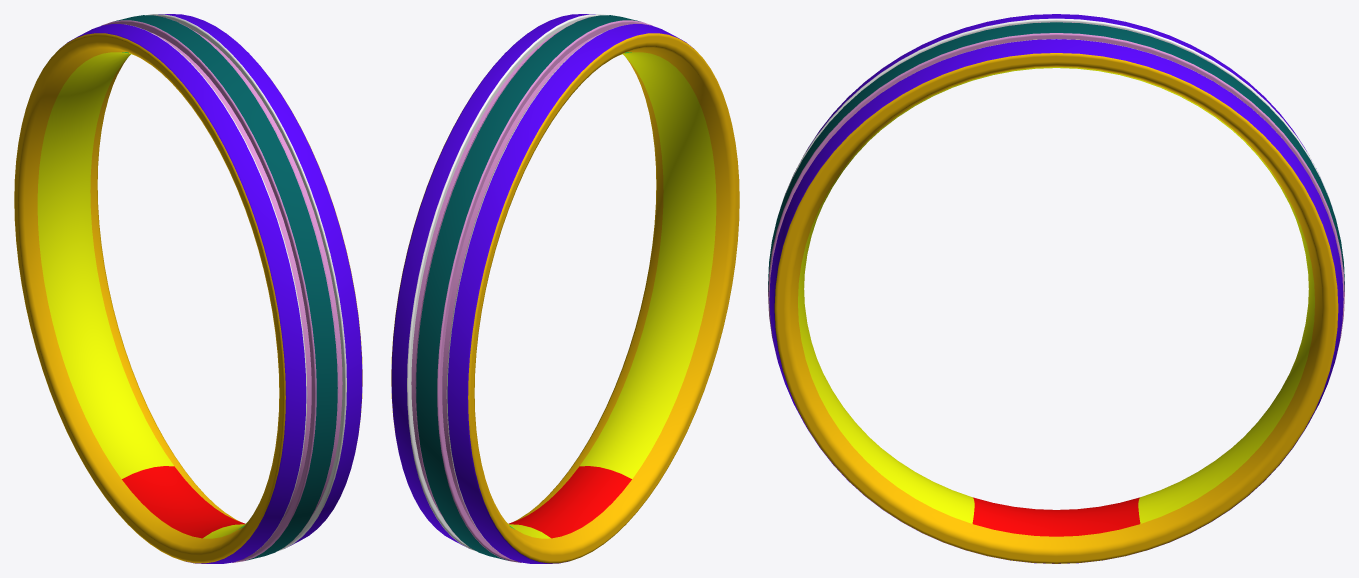
The picture shows the model from 3 angles, left to right: view 1: azimuth 30°, elevation 25°; view 2: azimuth 150°, elevation 25°; view 3: azimuth 270°, elevation 25°; orthographic projection. The views are drawn at different scales.
Parts seen in each view (by area): view 1: IN1038; view 2: IN1038; view 3: IN1038.
Boxes of the visible parts, box(x1,y1,x2,y2) form: IN1038: box(14, 14, 362, 563); IN1038: box(391, 14, 739, 563); IN1038: box(768, 14, 1344, 563).
Bounding box in the file's own units: 0.0035 × 0.0213 × 0.0213.
